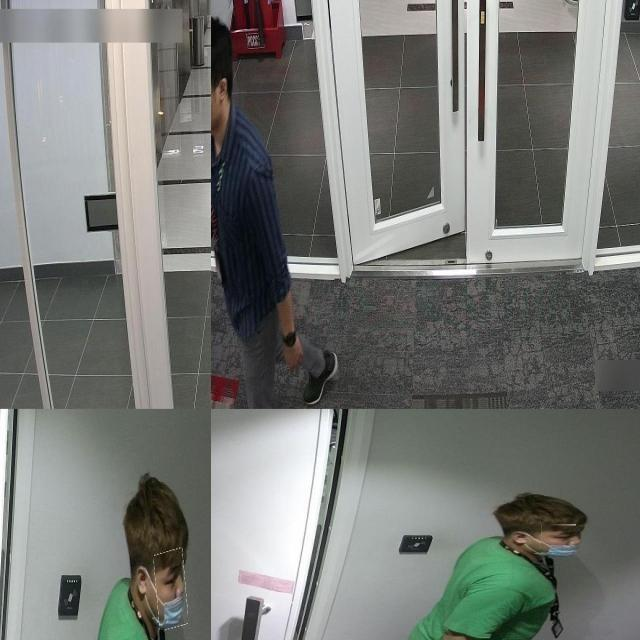hairnet: (155, 550, 187, 630), (541, 526, 583, 558)
